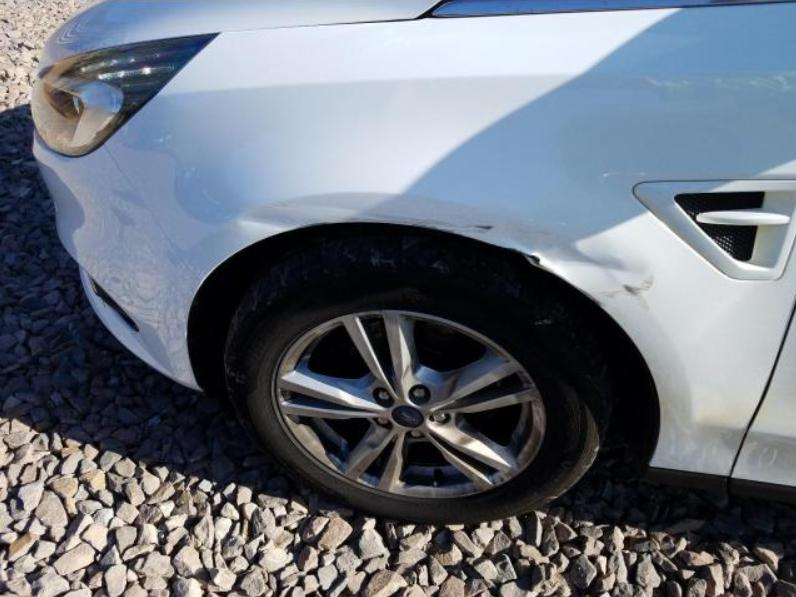Back-door: (731, 307, 795, 487)
Fender: (105, 2, 796, 477)
Front-bumper: (33, 126, 206, 394)
Front-door: (731, 319, 795, 486)
Front-wheel: (224, 240, 616, 522)
Headlight: (29, 34, 219, 159)
Hood: (38, 1, 441, 74)
Rocker-panel: (644, 468, 795, 503)
